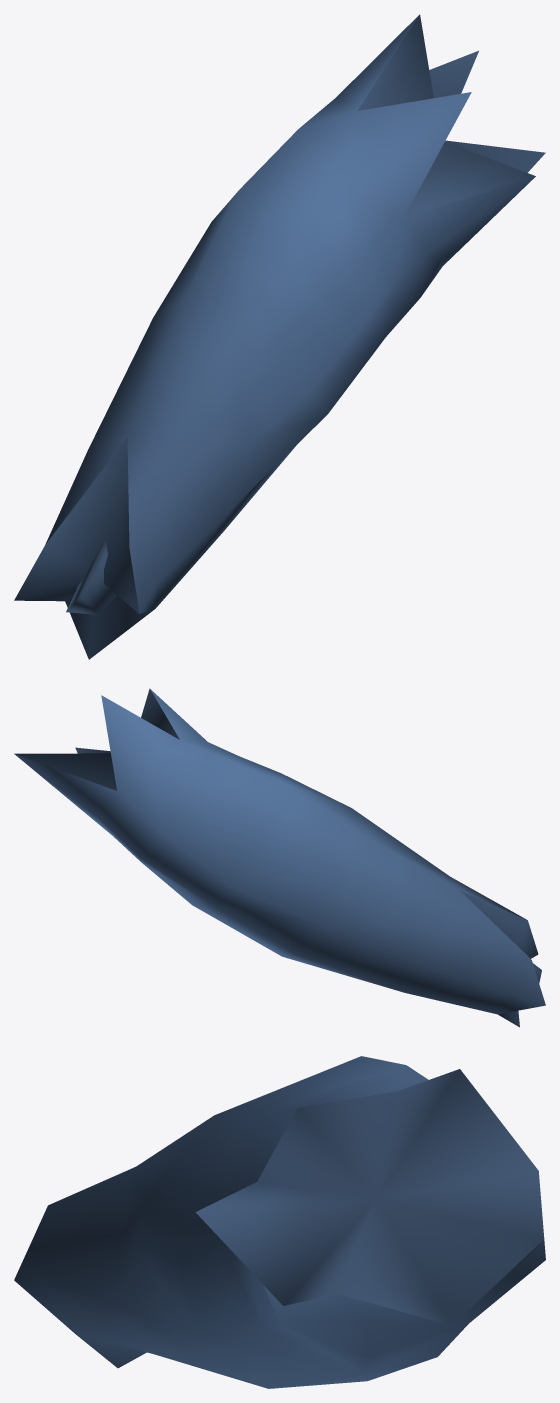
The model's file is Z_R_Forearm.fbx.
3 renders of one model, top to bottom at view 1: azimuth 30°, elevation 25°; view 2: azimuth 150°, elevation 25°; view 3: azimuth 270°, elevation 25°, orthographic. The views are drawn at different scales.
Visible parts, largest first — view 1: Z_R_Forearm; view 2: Z_R_Forearm; view 3: Z_R_Forearm.
Part boxes in pixels (<box>): Z_R_Forearm: <box>14,14,545,659</box>; Z_R_Forearm: <box>14,688,545,1027</box>; Z_R_Forearm: <box>14,1056,545,1388</box>.
Size of the model in its own units: 3149 by 2211 by 1767.
